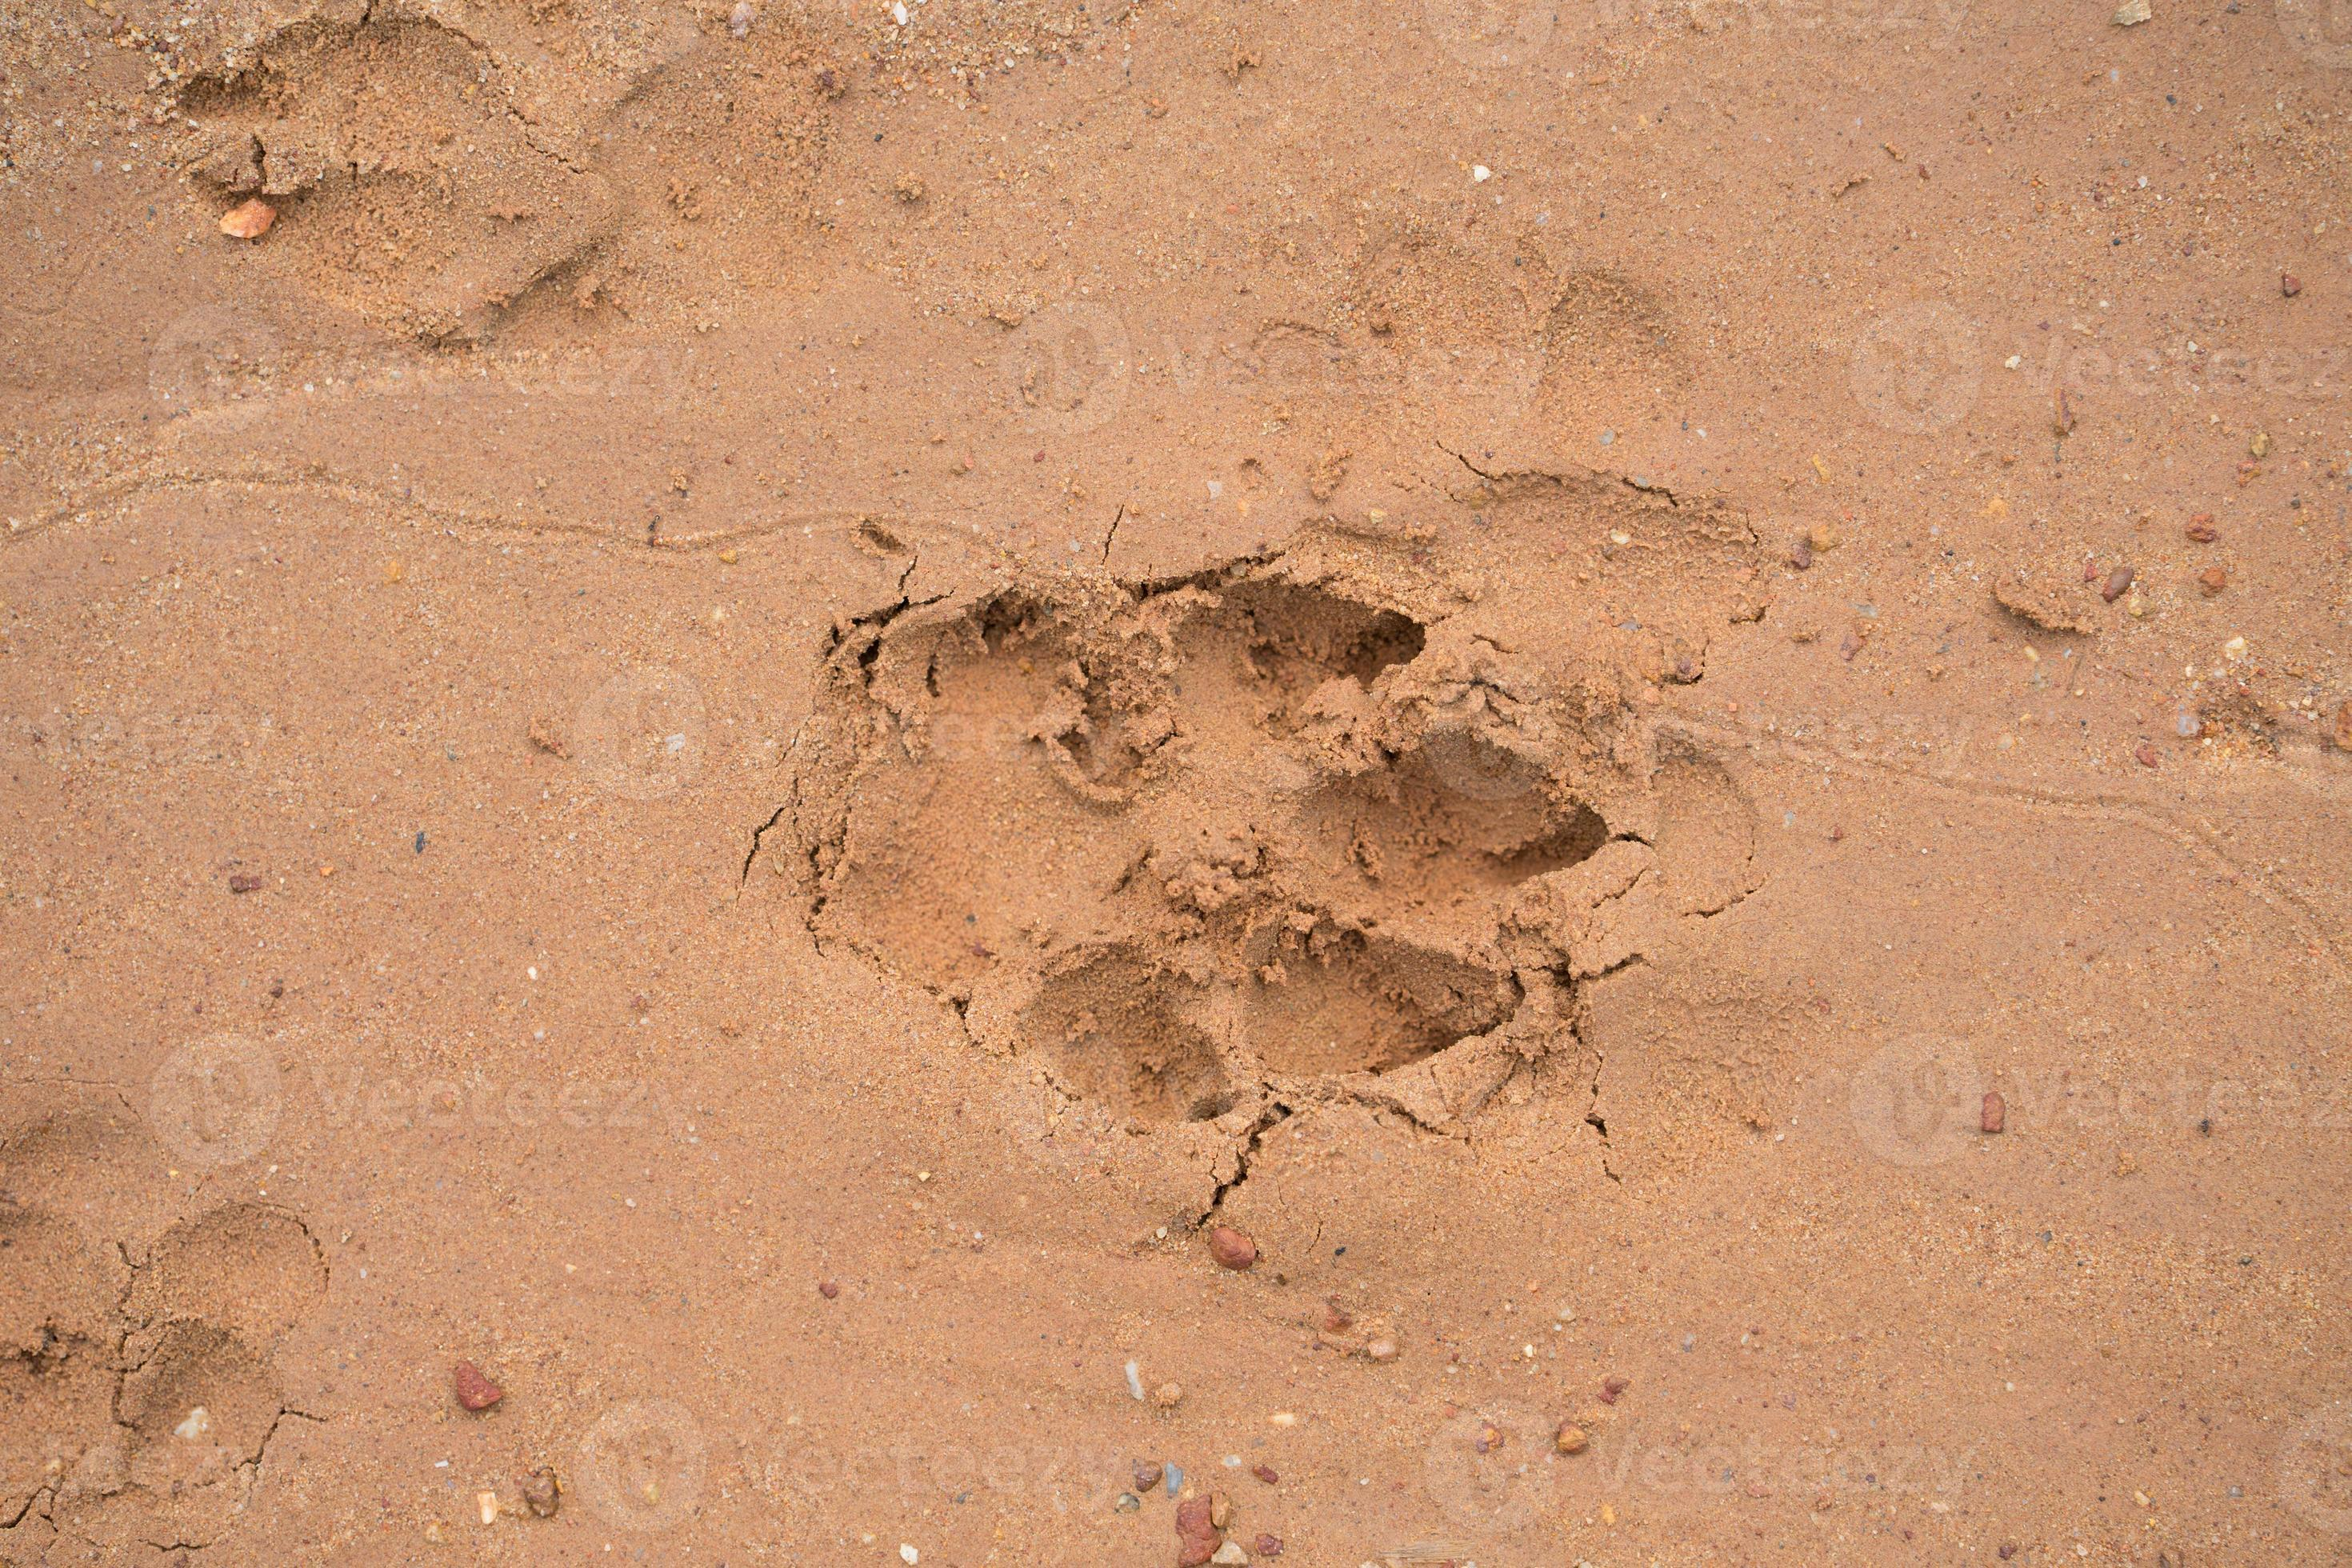chien: (812, 560, 1619, 1139)
